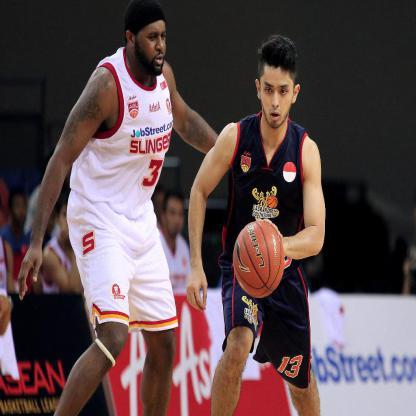Ball: (234, 219, 282, 298)
